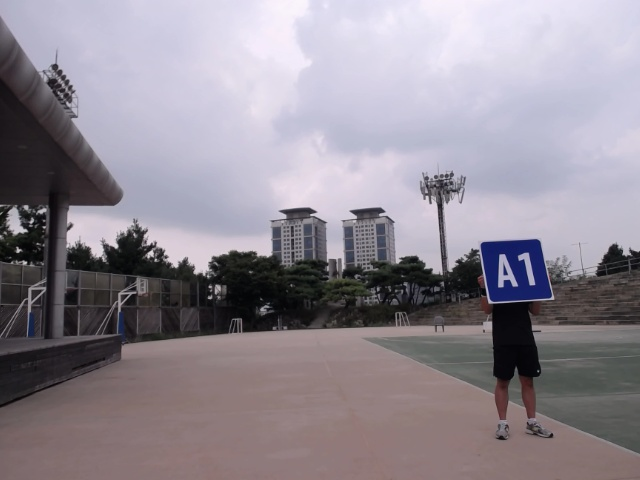delivery_a1: (480, 239, 553, 303)
